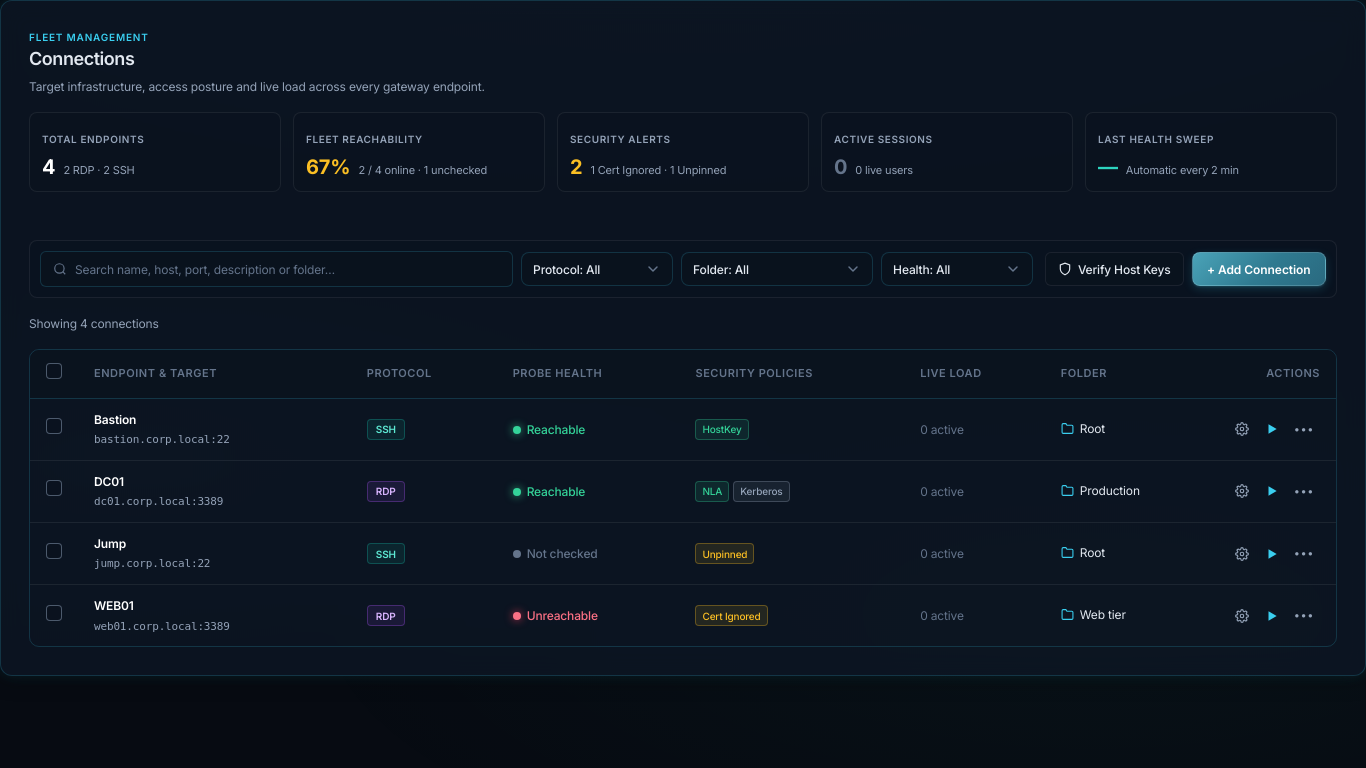
Test case: FleetManager › filters by protocol and folder subtree
Check: the text "Jump" is shown, box left=94, top=536, right=126, bottom=551
Click the button "Folder: All".
click(777, 269)  # box left=681, top=252, right=873, bottom=286
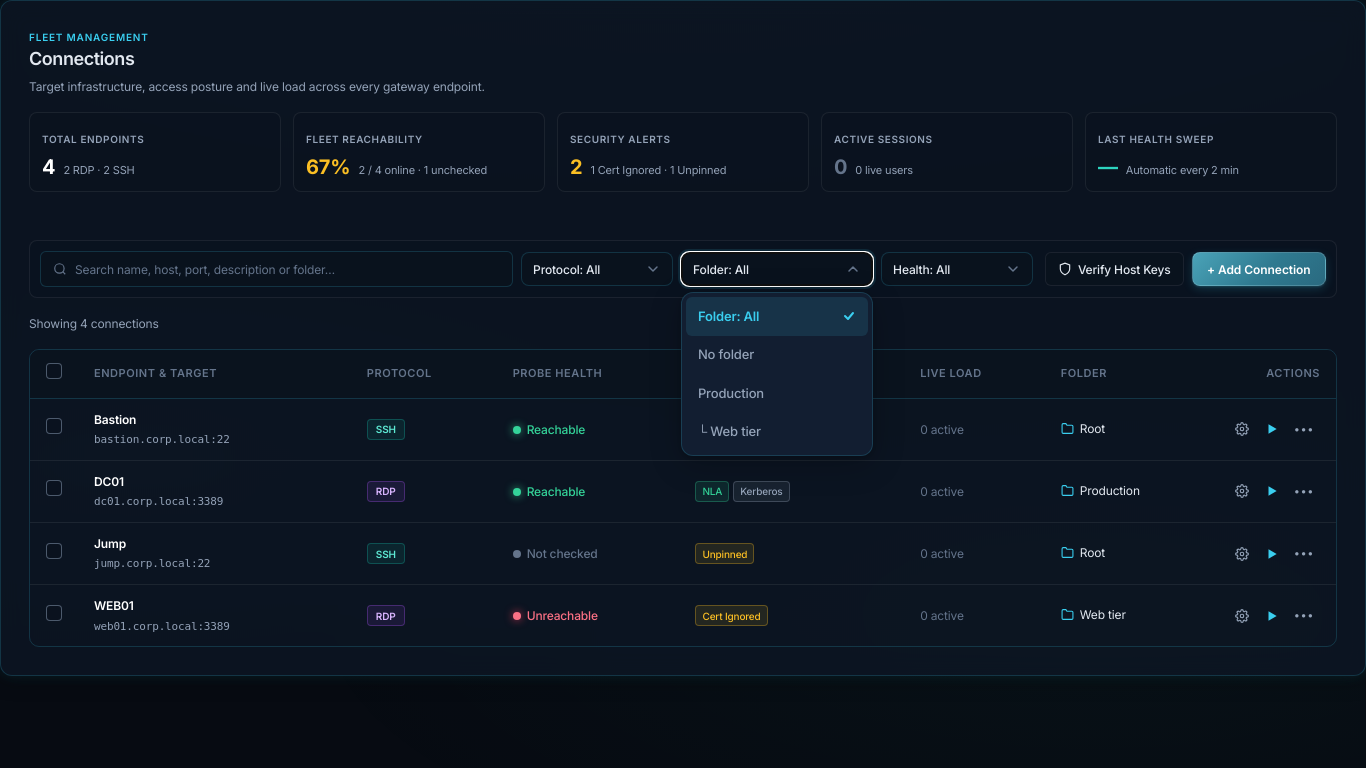
Click the option "Production".
click(731, 393)  # box left=698, top=385, right=764, bottom=401
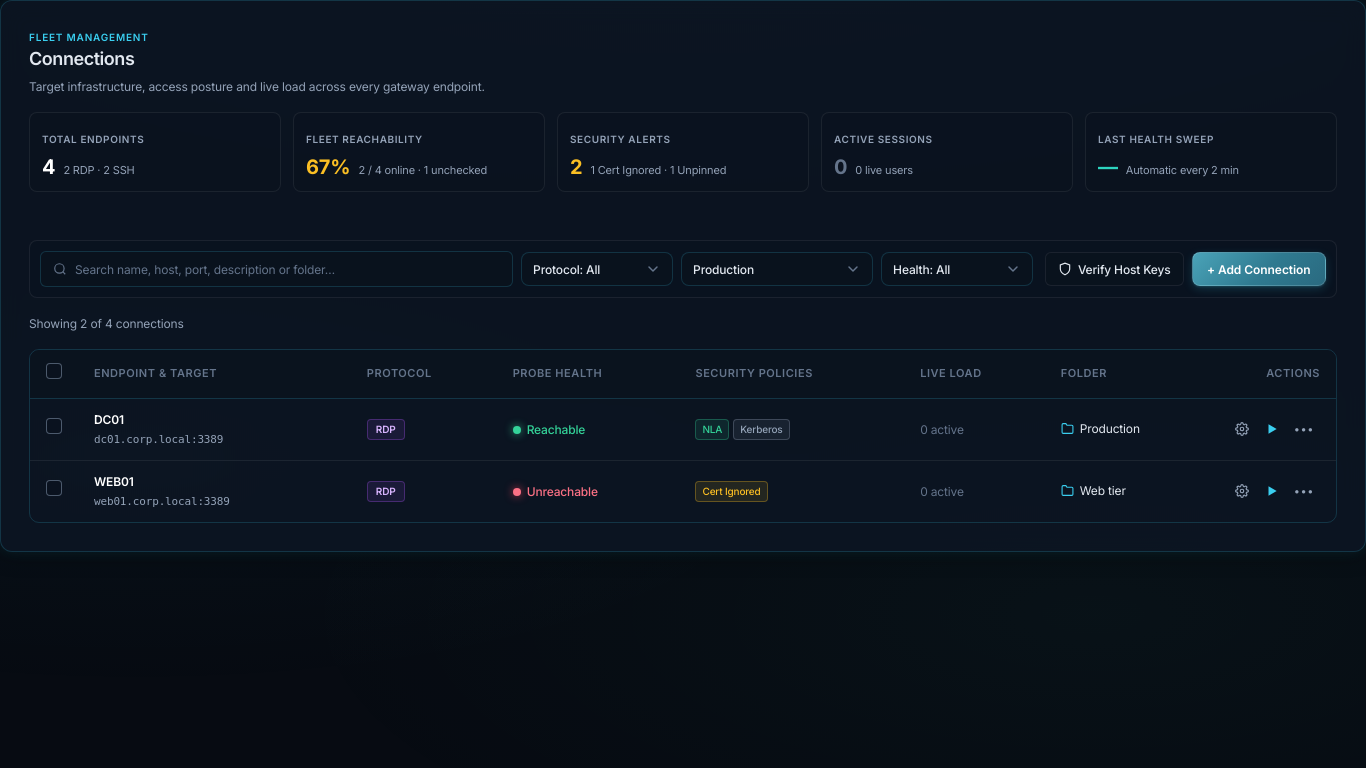
Check: the text "DC01" is shown, box left=94, top=412, right=124, bottom=427
Check: the text "Jump" is gone
Click the button "Protocol: All".
click(597, 269)  # box left=521, top=252, right=673, bottom=286
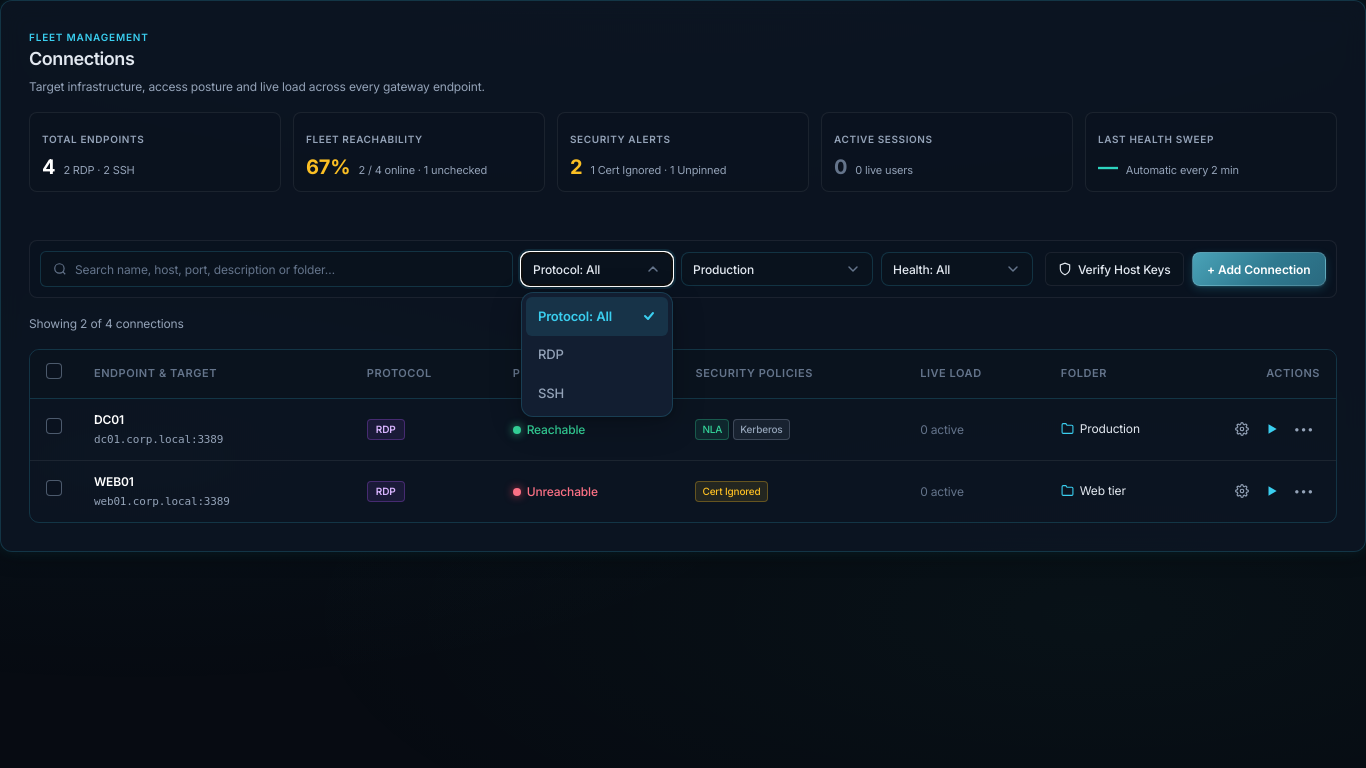
Click the option "SSH".
click(551, 393)  # box left=538, top=385, right=564, bottom=401
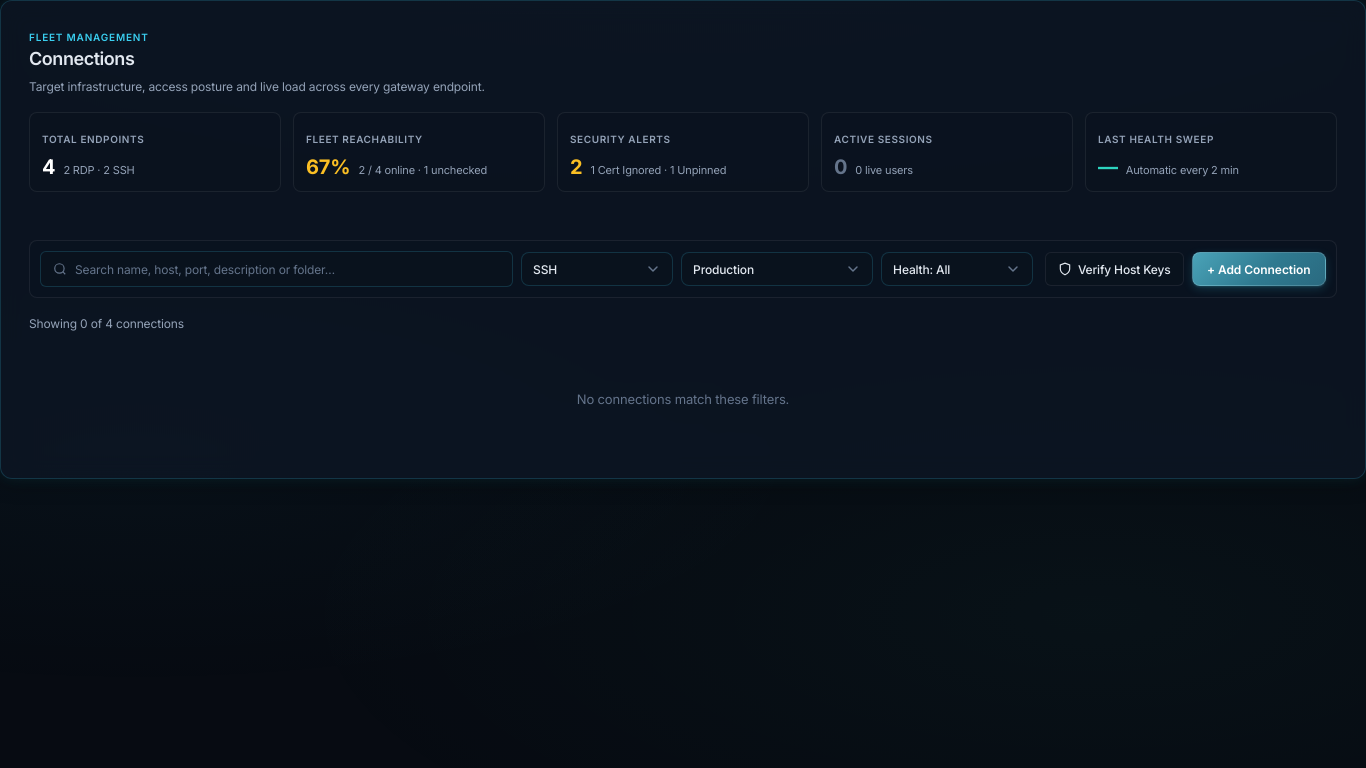
Check: the text "No connections match these filters." is shown, box left=577, top=391, right=789, bottom=407
